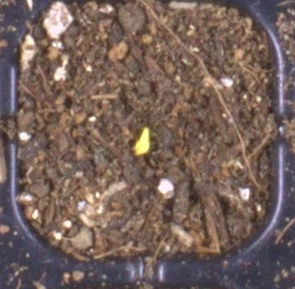chilli seed: (133, 126, 151, 156)
